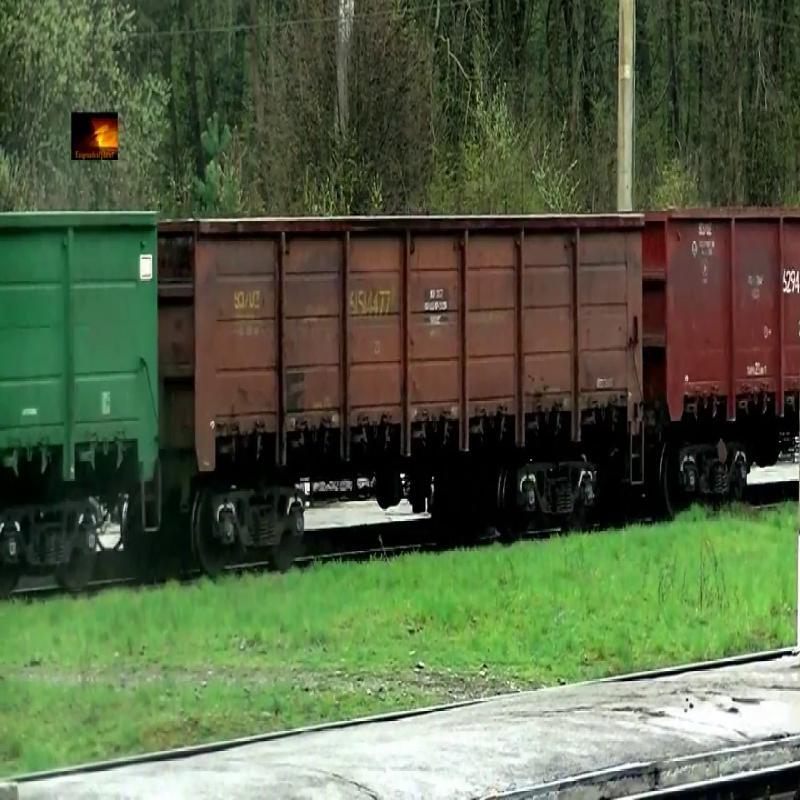train: (160, 212, 648, 481), (1, 210, 160, 494), (647, 209, 798, 426)
